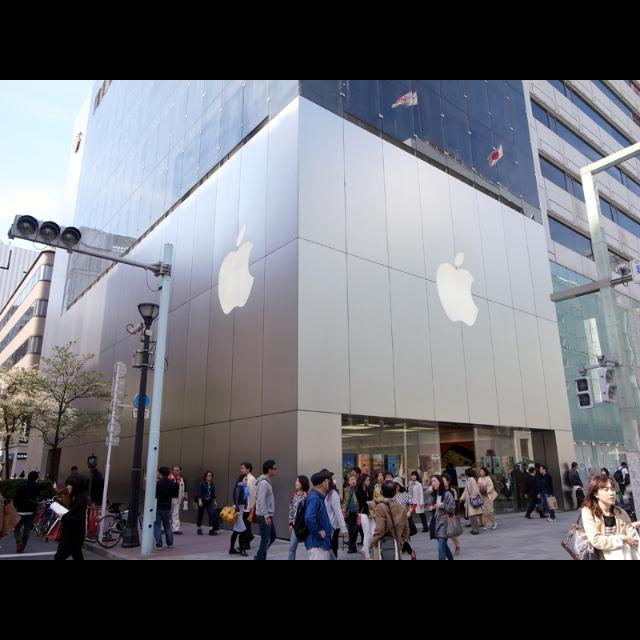head: (590, 476, 618, 506), (313, 473, 331, 491), (67, 478, 85, 496), (319, 471, 333, 489), (264, 460, 278, 478), (295, 476, 309, 490), (240, 463, 254, 477), (391, 477, 403, 493), (439, 475, 451, 489), (360, 474, 372, 488), (440, 476, 452, 488), (464, 469, 476, 481), (160, 468, 172, 480), (28, 472, 40, 484), (384, 473, 396, 485), (391, 480, 403, 492), (352, 466, 362, 479), (348, 477, 359, 488), (376, 472, 386, 483), (172, 467, 182, 478), (479, 467, 489, 477), (239, 476, 249, 486), (172, 466, 182, 476), (204, 472, 213, 483), (412, 472, 421, 482), (540, 465, 548, 475), (71, 466, 79, 476), (530, 468, 538, 477), (572, 462, 580, 470), (590, 468, 596, 476), (603, 468, 609, 476), (448, 462, 454, 470), (535, 464, 541, 472), (622, 463, 628, 469), (515, 465, 521, 471), (98, 474, 104, 478)
person: (11, 469, 47, 555), (219, 474, 253, 558), (433, 474, 463, 556), (344, 465, 372, 547), (151, 465, 177, 551), (194, 469, 224, 536), (237, 461, 259, 552), (158, 464, 185, 536), (459, 468, 485, 536), (405, 469, 431, 535), (342, 474, 362, 556), (371, 470, 393, 544), (381, 471, 403, 545), (476, 466, 500, 532), (168, 465, 190, 535), (524, 466, 550, 520), (87, 466, 109, 524), (538, 464, 558, 522), (64, 465, 86, 515), (441, 461, 462, 512), (530, 461, 548, 515), (568, 461, 586, 511), (508, 463, 526, 513), (613, 462, 633, 504), (599, 468, 617, 512), (585, 468, 603, 510)
